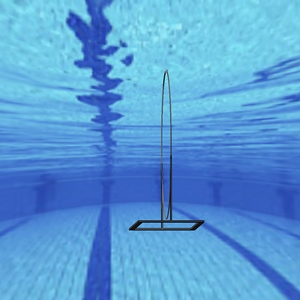circle: (127, 67, 205, 231)
